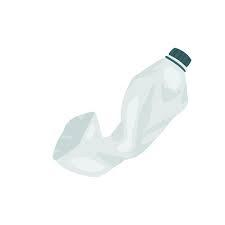plastic: (56, 47, 192, 178)
